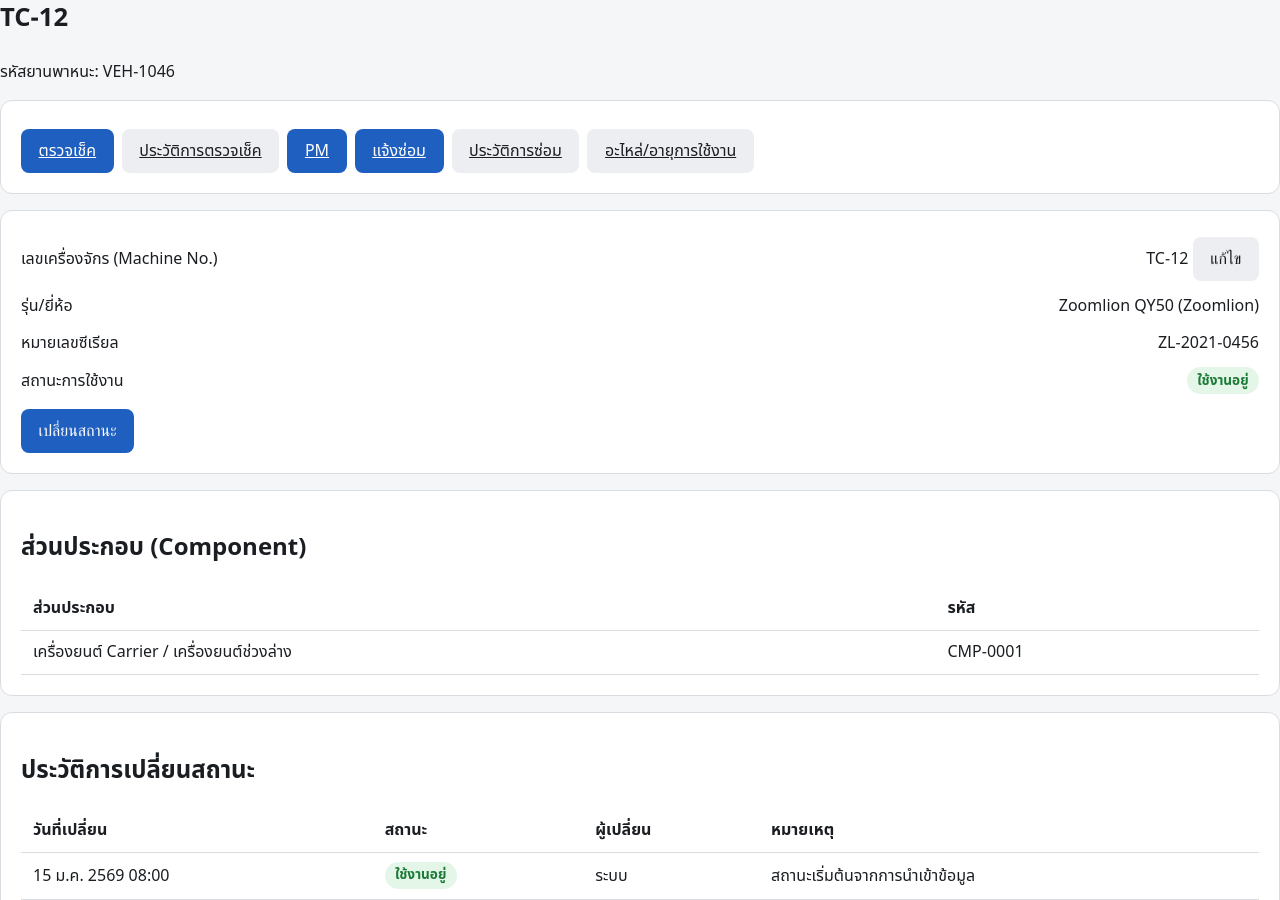
Test: VehicleDetailPage › opens the status change dialog and submits a PATCH request
The width and height of the screenshot is (1280, 900).
Later steps or results of the test are not shown.
Expected: the heading "TC-12" is shown, [0, 0, 68, 38]
Click the button "เปลี่ยนสถานะ" at (78, 430), box [21, 408, 134, 452]
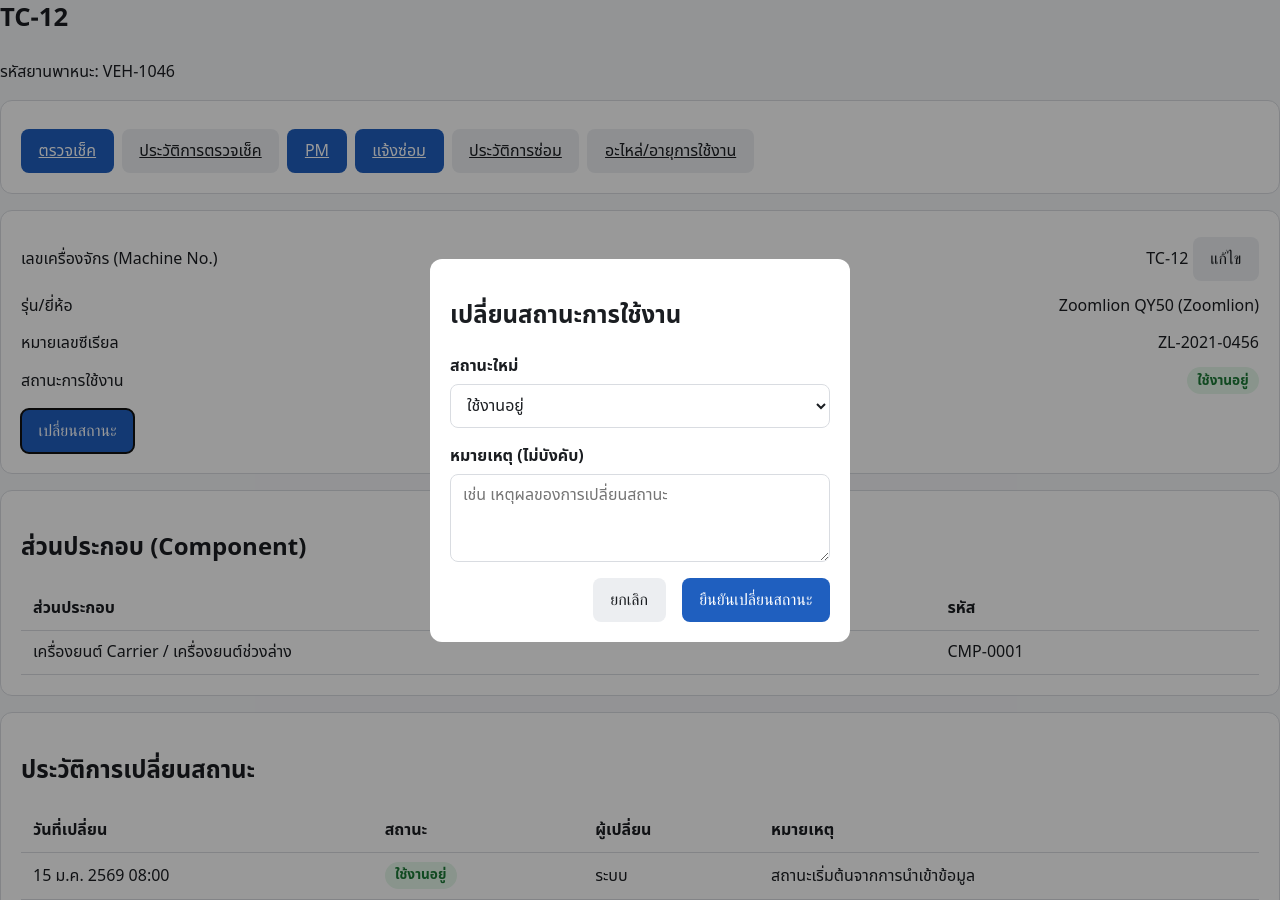
Expected: the dialog is shown, [430, 258, 850, 642]
